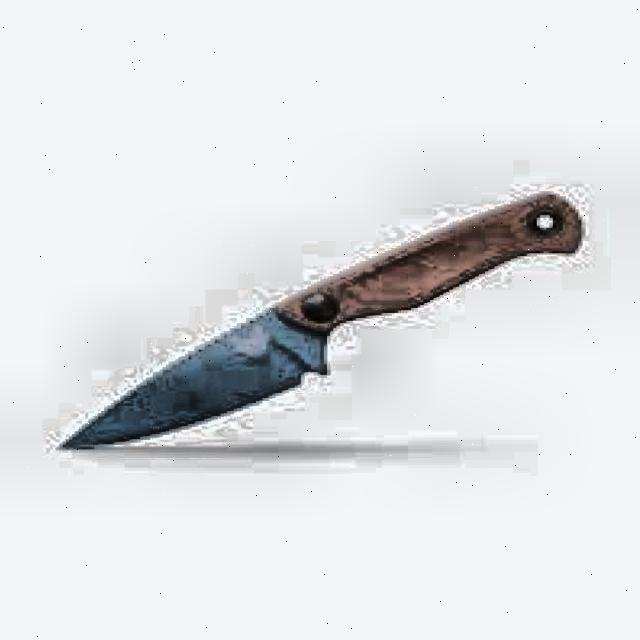knife: (44, 187, 590, 452)
